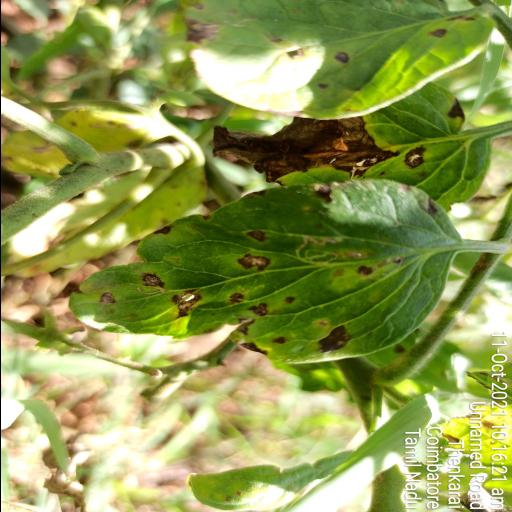Early Blight: (66, 179, 458, 361)
